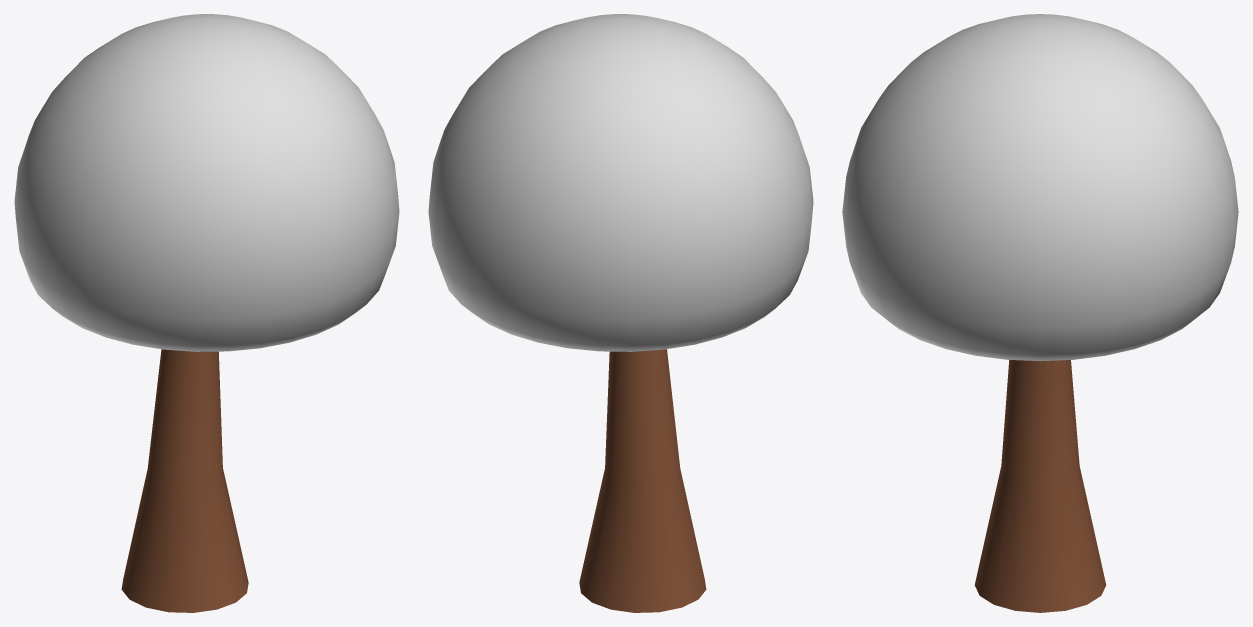
Rendered from Round_Tree.fbx.
3 renders of one model, left to right at view 1: azimuth 30°, elevation 25°; view 2: azimuth 150°, elevation 25°; view 3: azimuth 270°, elevation 25°, orthographic. The views are drawn at different scales.
Visible parts, largest first — view 1: Round Tree Trunk; view 2: Round Tree Trunk; view 3: Round Tree Trunk.
Part boxes in pixels (left/top/right/bottom): Round Tree Trunk: left=14, top=14, right=399, bottom=612; Round Tree Trunk: left=428, top=14, right=813, bottom=612; Round Tree Trunk: left=842, top=14, right=1238, bottom=612.
Bounding box in the file's own units: 283 × 444 × 283.
